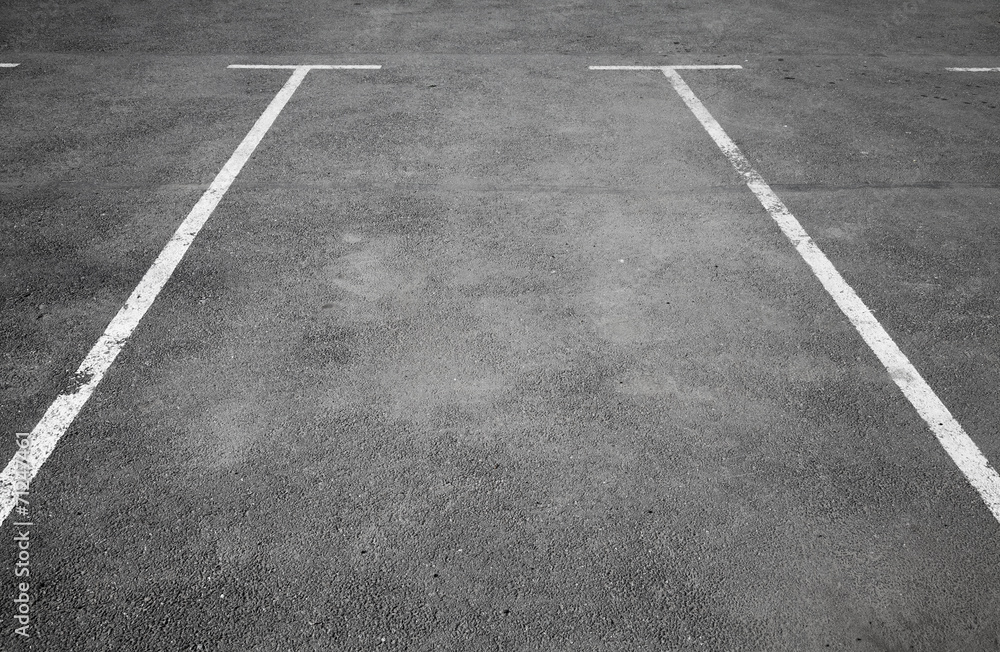dolu: (32, 50, 1000, 492)
